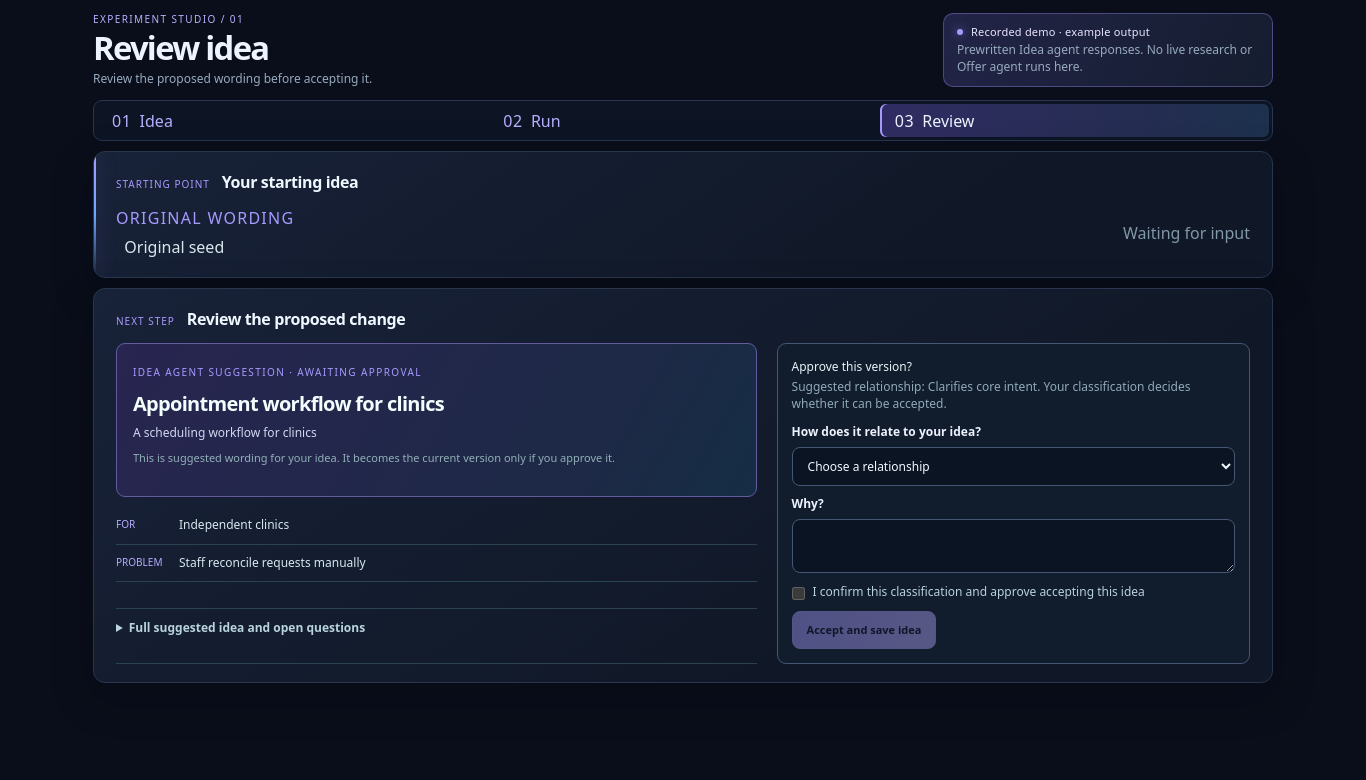
Test: experiment creation checkpoint › requires relationship classification and explicit confirmation to accept advice
The image size is (1366, 780).
Expected: the text "Suggested relationship: Clarifies core intent" is shown, [792,379,1235,413]
Expected: the button "Accept and save idea" is disabled, [792,611,936,649]
Select "Narrows core intent" in the dropdown named "intent relationship" at (1013, 466), box [792,447,1235,486]
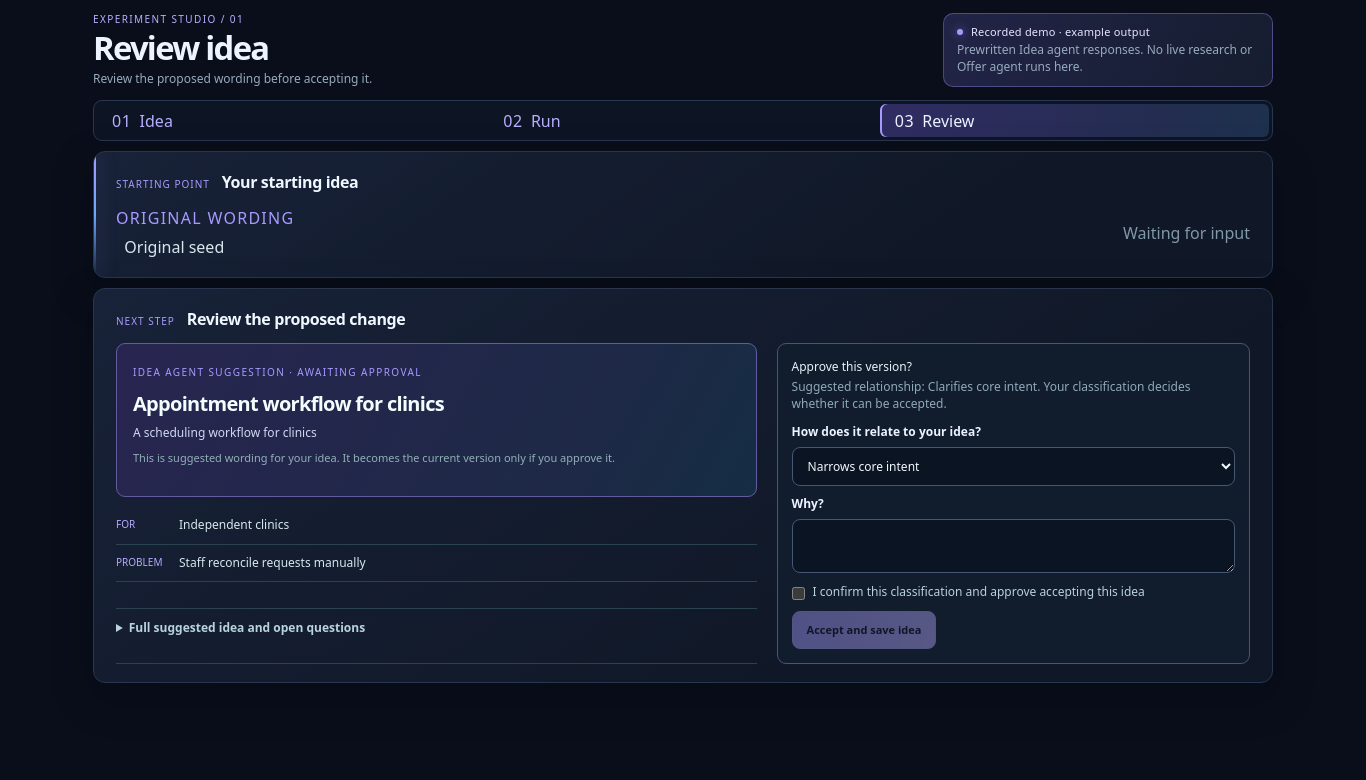
Expected: the button "Accept and save idea" is disabled, [792,611,936,649]
Click the checkbox labelled "confirm this classification" at (798, 593), box [792,587,804,600]
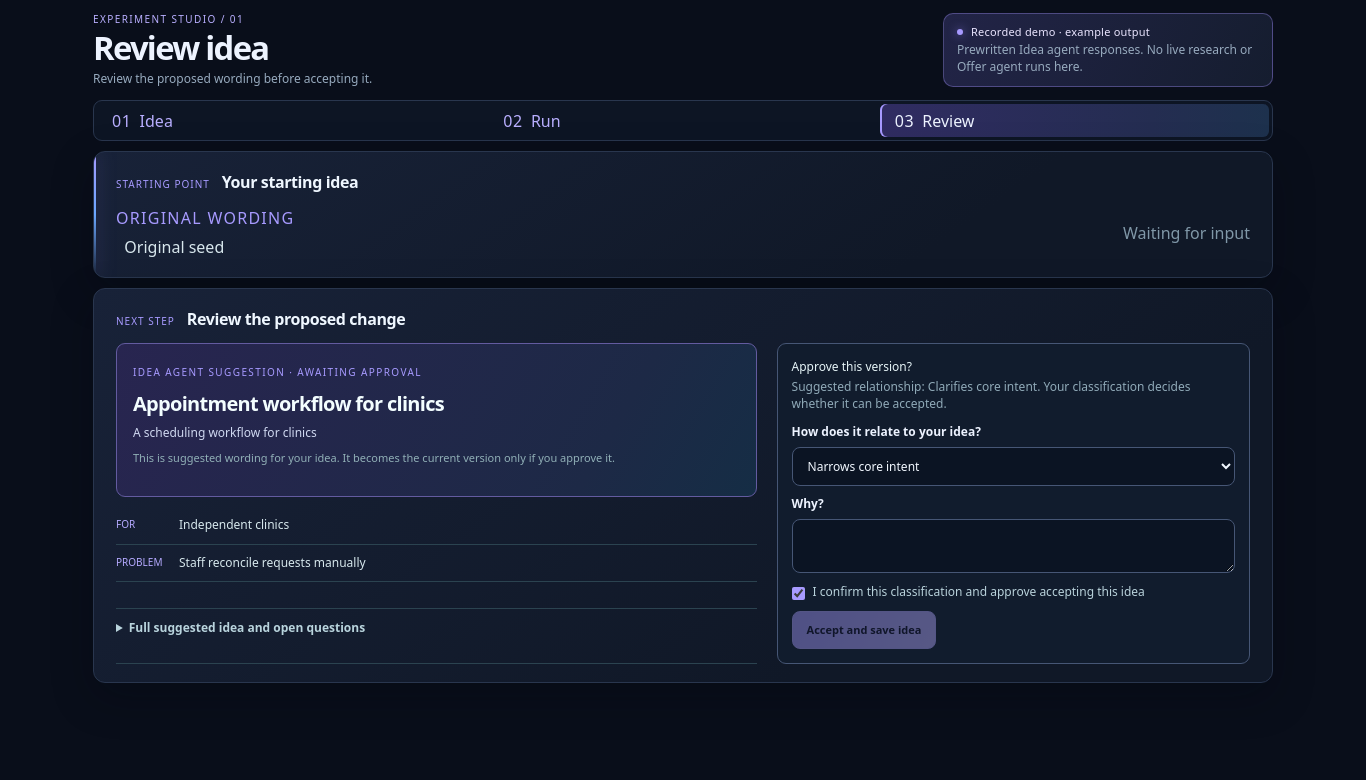
Expected: the button "Accept and save idea" is disabled, [792,611,936,649]
Type "Same clinics, narrower workflow" into the text box named "reason for classification" at (1013, 546), box [792,519,1235,573]
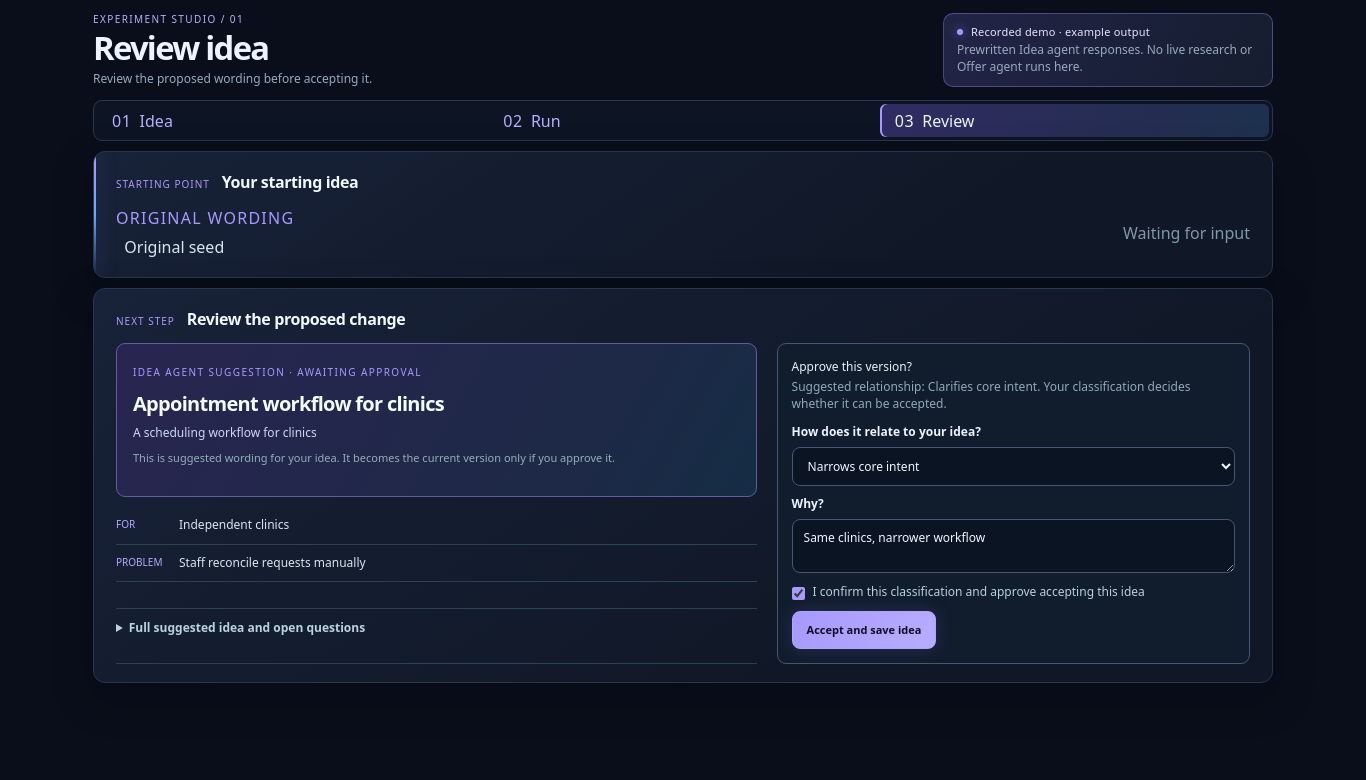
Click the button "Accept and save idea" at (864, 630), box [792,611,936,649]
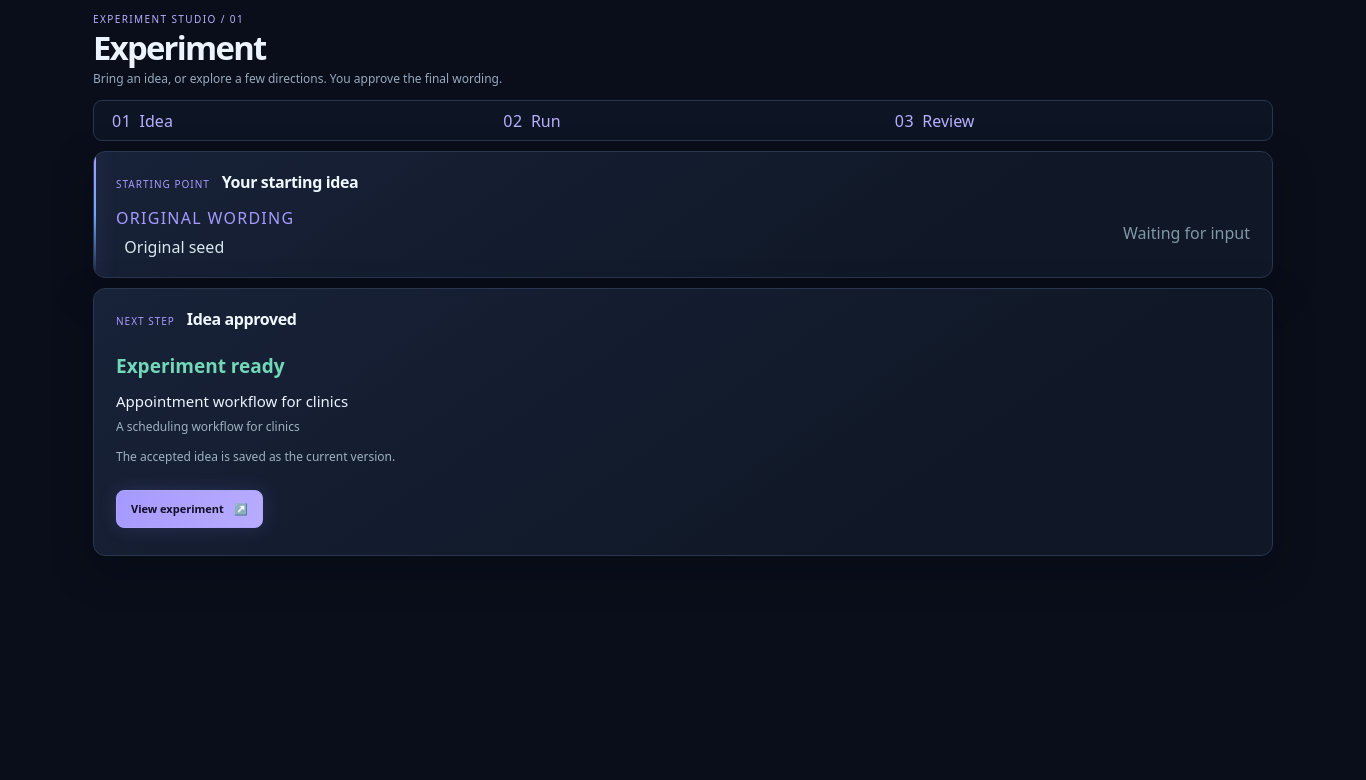
Result: the text "Experiment ready" is shown at [116,353,285,379]
